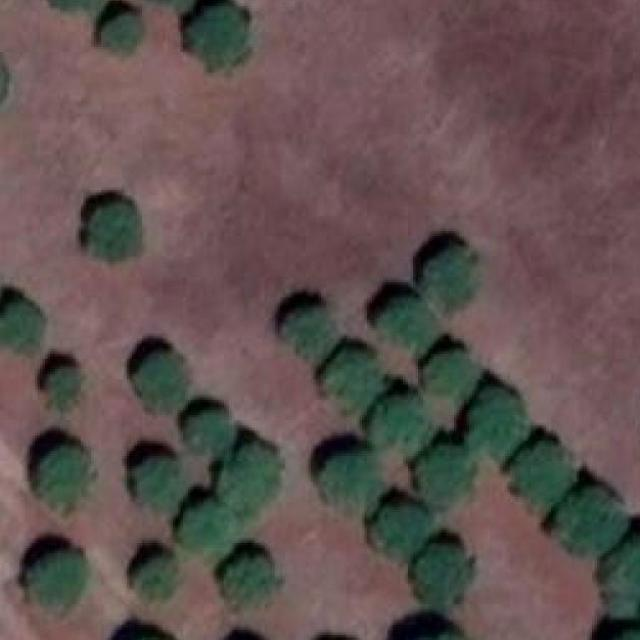Tree: (559, 490, 624, 551), (188, 6, 248, 66), (472, 389, 526, 454), (323, 451, 382, 510), (377, 300, 439, 352), (413, 545, 467, 604), (516, 446, 572, 502), (40, 448, 91, 507), (224, 448, 275, 507), (376, 398, 430, 452), (426, 248, 474, 308), (328, 352, 377, 406), (376, 507, 430, 556), (420, 449, 469, 503), (89, 206, 143, 254), (30, 551, 78, 605), (426, 352, 481, 398), (183, 502, 234, 551), (137, 354, 186, 405), (607, 541, 640, 612), (224, 558, 273, 604), (137, 459, 183, 505), (0, 302, 42, 350), (288, 308, 332, 352), (188, 412, 232, 451), (101, 14, 145, 50), (48, 369, 84, 405), (140, 561, 174, 597), (52, 0, 101, 9)
